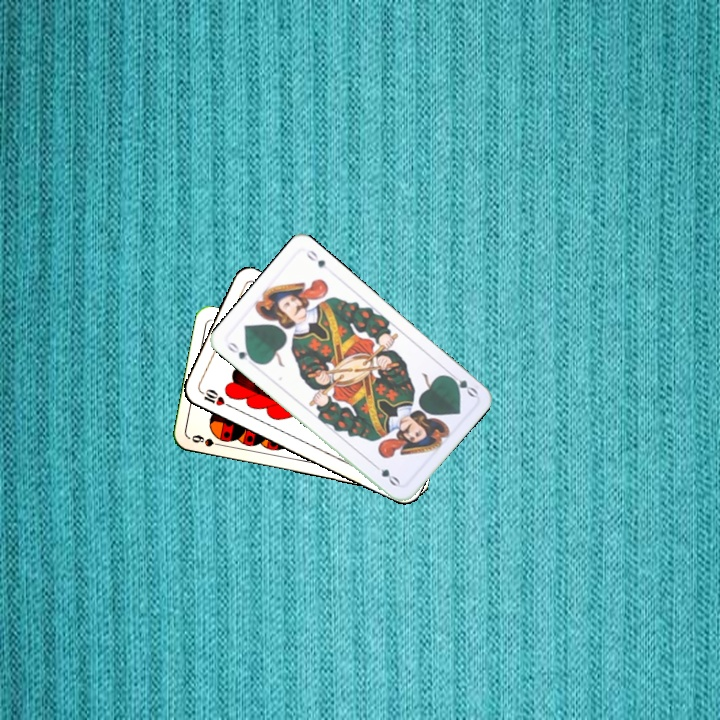GO: (443, 368, 480, 400), (223, 338, 259, 365)
H10: (196, 385, 234, 410)
S9: (188, 431, 227, 449)
